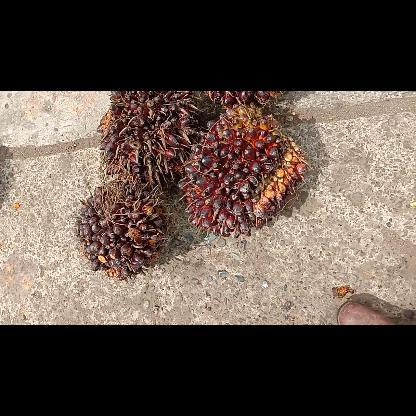Kurang masak: (174, 101, 310, 239), (96, 92, 230, 196), (73, 173, 170, 285)
